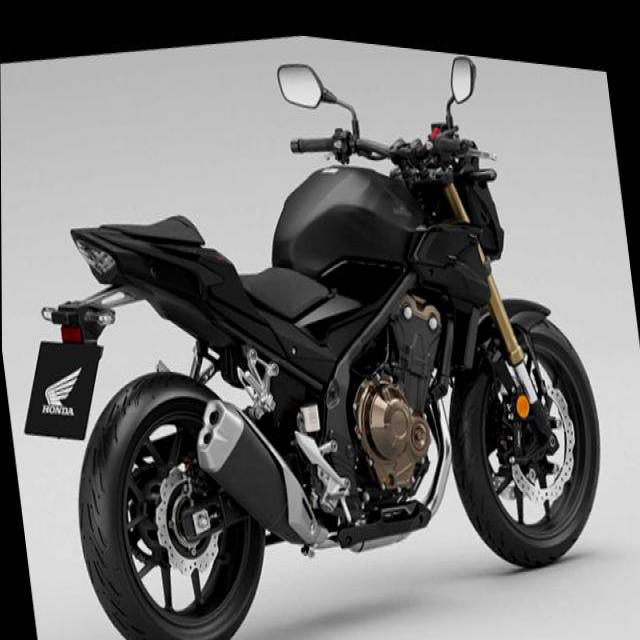CB500F: (0, 0, 625, 639)
